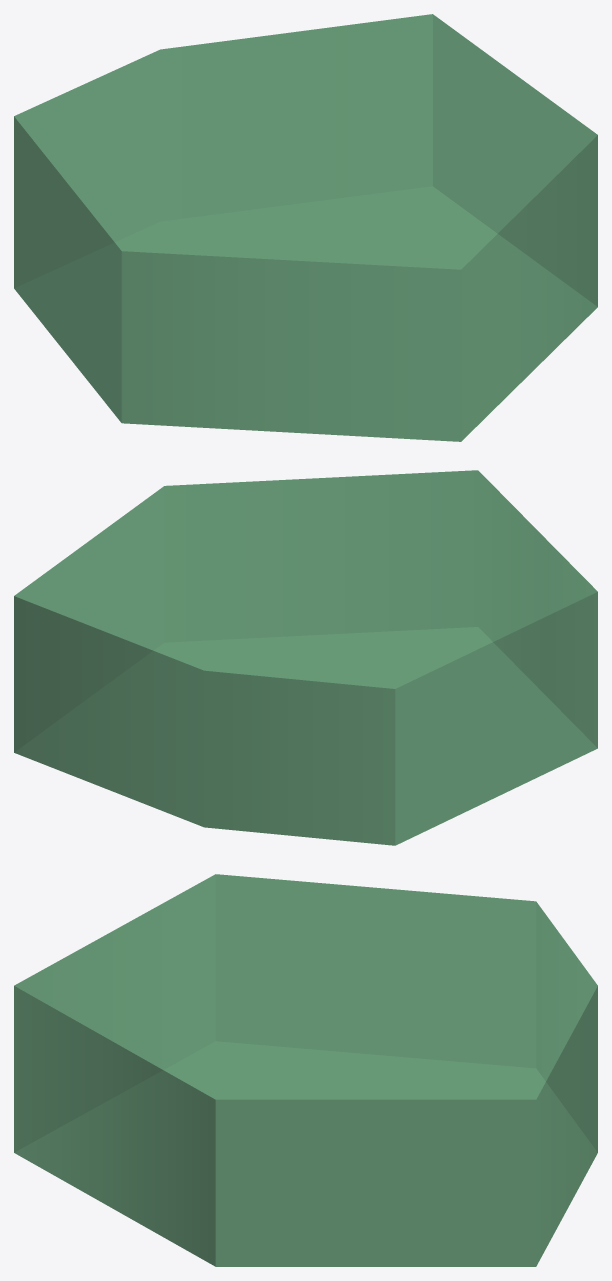
Rendered from Rock_S_Collider_A.fbx.
3 views of the same model, one above another, from view 1: azimuth 30°, elevation 25°; view 2: azimuth 150°, elevation 25°; view 3: azimuth 270°, elevation 25° (orthographic). The views are drawn at different scales.
Visible parts, largest first — view 1: Rock_S_Collider_A; view 2: Rock_S_Collider_A; view 3: Rock_S_Collider_A.
Boxes of the visible parts, x1,y1,x2,y2 form: Rock_S_Collider_A: (14,14,597,441); Rock_S_Collider_A: (14,470,597,845); Rock_S_Collider_A: (14,874,597,1266).
Size of the model in its own units: 444 by 153 by 486.
